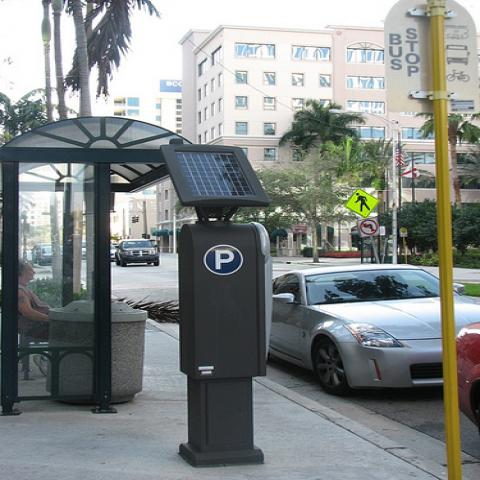car: (269, 260, 479, 398), (457, 316, 479, 427), (114, 238, 161, 268), (30, 242, 51, 263), (37, 246, 52, 266), (110, 243, 120, 262), (81, 247, 86, 256)
